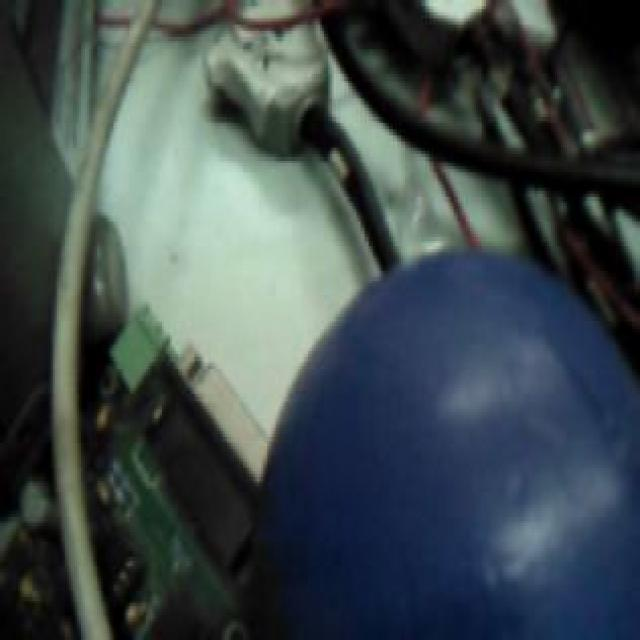BallPurple: (259, 243, 640, 640)
